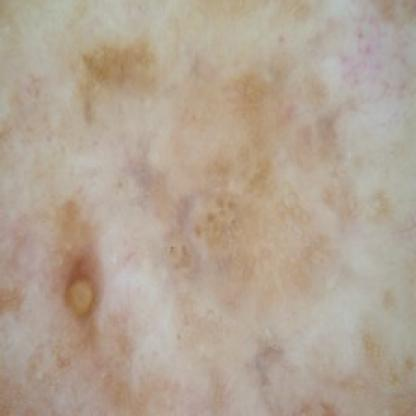malignant: (32, 217, 141, 325)
